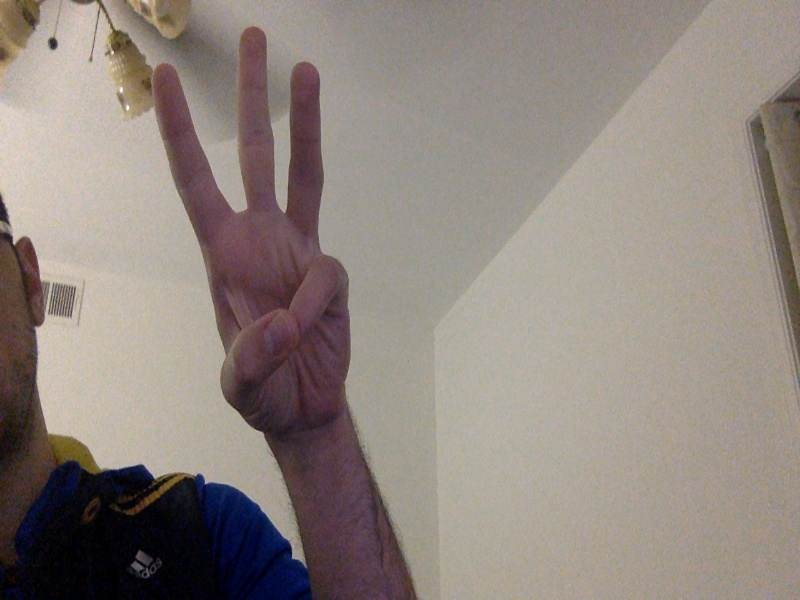3-hand: (151, 27, 349, 441)
